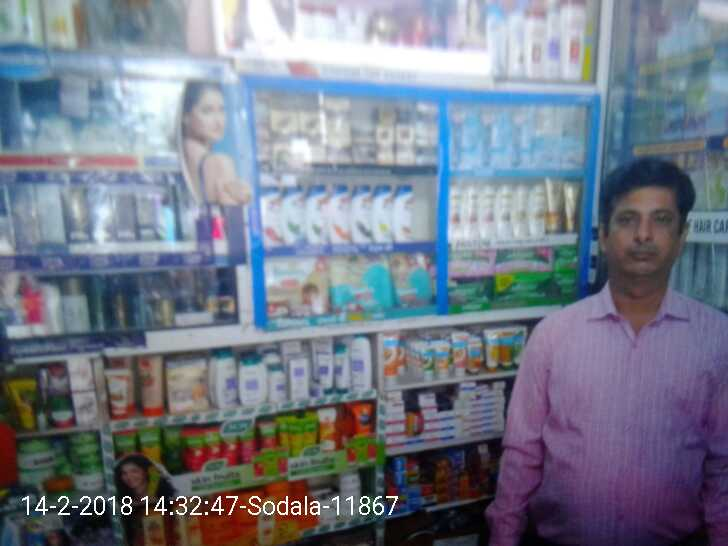venus: (470, 103, 503, 169), (559, 111, 591, 168), (530, 106, 559, 168), (505, 106, 530, 167), (454, 103, 470, 163)
